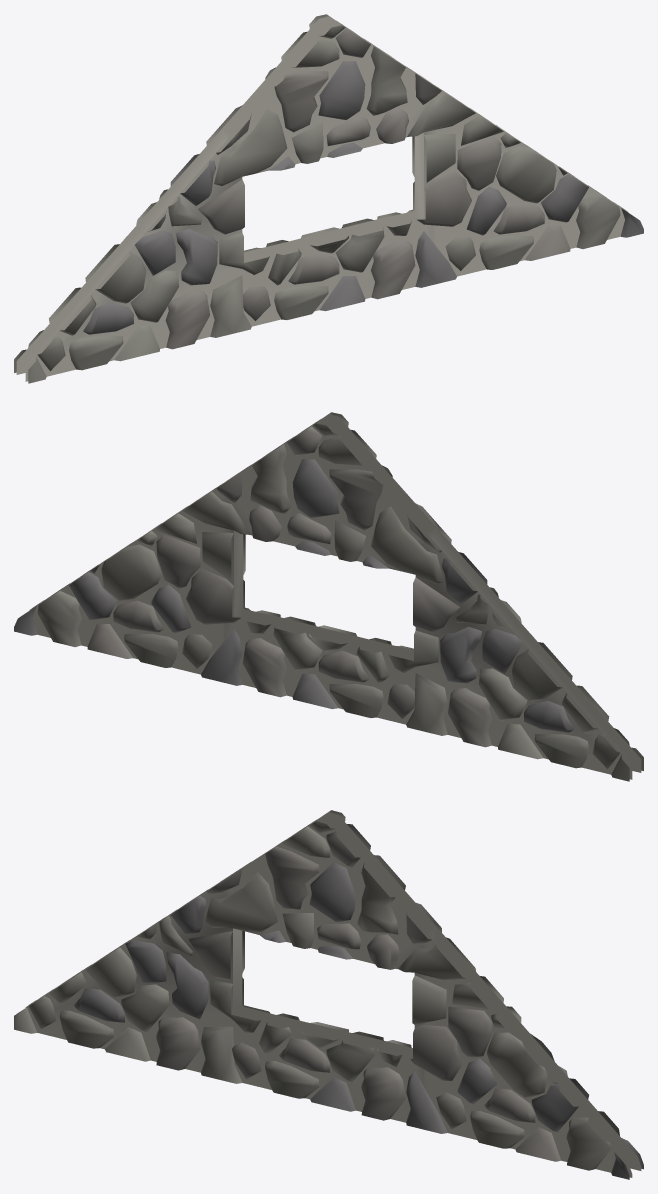
Rendered from rpgpp_ag_roof_end_01_9x4_wall_window_04b.fbx.
3 views of the same model, one above another, from view 1: azimuth 30°, elevation 25°; view 2: azimuth 150°, elevation 25°; view 3: azimuth 330°, elevation 25° (orthographic).
Parts seen in each view (by area): view 1: rpgpp_ag_roof_end_01_9x4_wall_window_04b; view 2: rpgpp_ag_roof_end_01_9x4_wall_window_04b; view 3: rpgpp_ag_roof_end_01_9x4_wall_window_04b.
Part boxes in pixels (left/top/right/bottom): rpgpp_ag_roof_end_01_9x4_wall_window_04b: left=14, top=14, right=643, bottom=383; rpgpp_ag_roof_end_01_9x4_wall_window_04b: left=14, top=412, right=643, bottom=781; rpgpp_ag_roof_end_01_9x4_wall_window_04b: left=14, top=810, right=643, bottom=1179.
Size of the model in its own units: 9 by 3.95 by 0.404.
